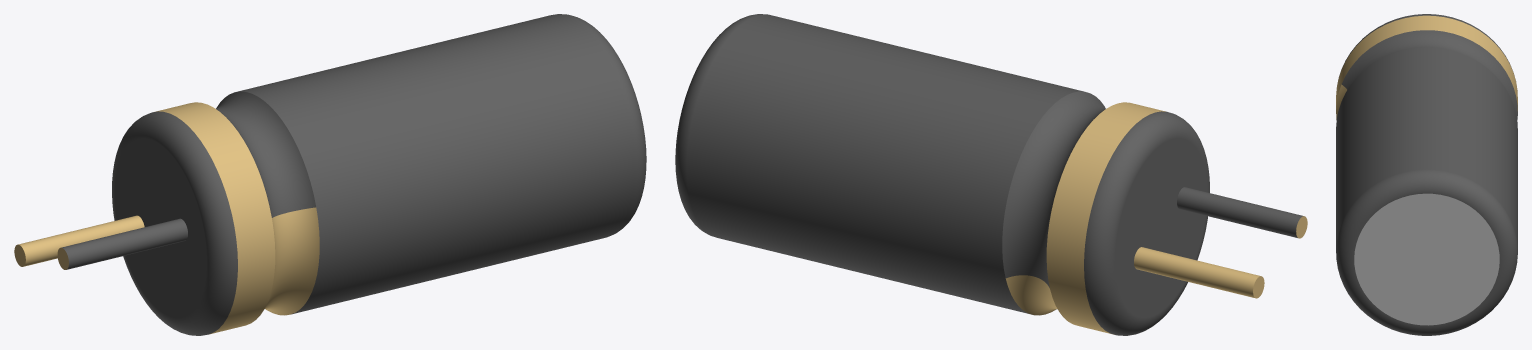
File: EBoxNewAsm_stp_1_IMC413_stp_1_IMC413_9_stp_1_solid1.obj
The picture shows the model from 3 angles, left to right: view 1: azimuth 30°, elevation 25°; view 2: azimuth 150°, elevation 25°; view 3: azimuth 270°, elevation 25°; orthographic projection. The views are drawn at different scales.
Parts seen in each view (by area): view 1: mesh7021, mesh7011, mesh7016, mesh7012, mesh7013, mesh7019, mesh7020, mesh7014, mesh7010, mesh7017, mesh7022, mesh7018 (+1 smaller); view 2: mesh7021, mesh7011, mesh7016, mesh7012, mesh7019, mesh7017, mesh7014, mesh7010, mesh7022, mesh7013, mesh7020; view 3: mesh7021, mesh7024, mesh7022, mesh7023, mesh7017, mesh7016, mesh7012, mesh7018.
Boxes of the visible parts, x1,y1,x2,y2 form: mesh7021: [237, 14, 634, 314]; mesh7011: [115, 138, 206, 317]; mesh7016: [155, 102, 275, 334]; mesh7012: [112, 111, 234, 231]; mesh7013: [123, 227, 237, 335]; mesh7019: [216, 91, 315, 212]; mesh7020: [265, 207, 319, 315]; mesh7014: [61, 218, 187, 269]; mesh7010: [18, 215, 144, 266]; mesh7017: [216, 108, 288, 217]; mesh7022: [555, 14, 643, 130]; mesh7018: [265, 212, 291, 308]; mesh7021: [687, 14, 1083, 314]; mesh7011: [1115, 138, 1206, 317]; mesh7016: [1046, 102, 1165, 334]; mesh7012: [1084, 111, 1206, 299]; mesh7019: [1002, 91, 1105, 278]; mesh7017: [1030, 108, 1105, 288]; mesh7014: [1177, 187, 1303, 237]; mesh7010: [1134, 247, 1260, 297]; mesh7022: [675, 14, 767, 201]; mesh7013: [1087, 160, 1209, 335]; mesh7020: [1005, 275, 1056, 315]; mesh7021: [1336, 47, 1517, 250]; mesh7024: [1354, 193, 1499, 325]; mesh7022: [1341, 169, 1517, 283]; mesh7023: [1336, 224, 1511, 335]; mesh7017: [1341, 30, 1517, 119]; mesh7016: [1336, 15, 1517, 110]; mesh7012: [1342, 14, 1516, 81]; mesh7018: [1336, 84, 1346, 119].
Bounding box in the file's own units: 0.014 × 0.005 × 0.005.
